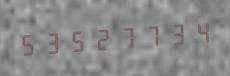five: (17, 26, 40, 61), (65, 23, 88, 57)
four: (185, 15, 208, 49)
seven: (113, 20, 136, 54), (137, 18, 160, 52)
three: (161, 16, 184, 51), (41, 25, 64, 59)
two: (89, 21, 112, 56)
